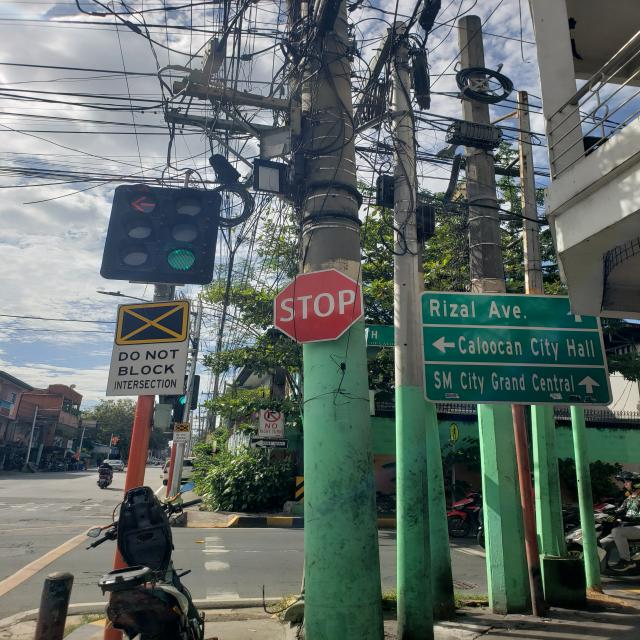stop-sign: (273, 268, 365, 344)
